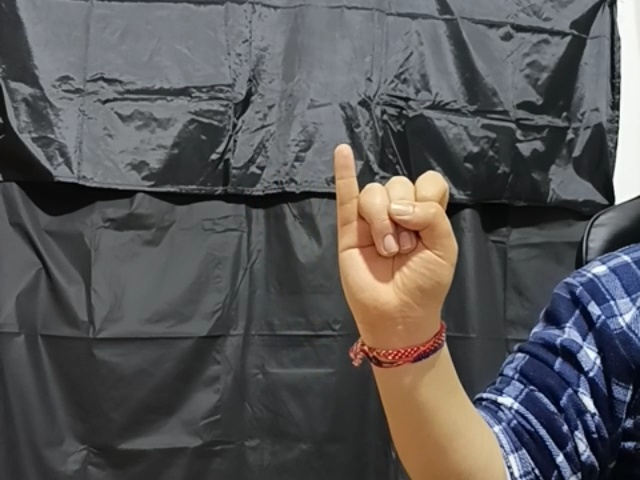I: (328, 142, 467, 347)
